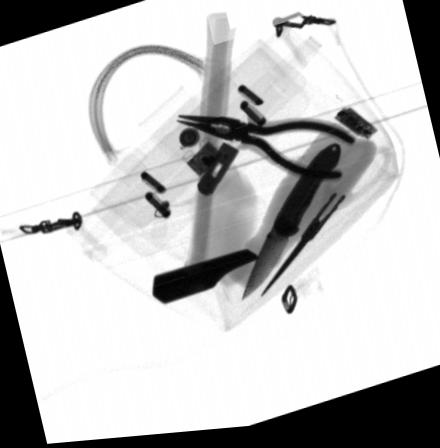Hammer: (150, 14, 261, 308)
Knife: (239, 146, 341, 306)
Pliers: (173, 116, 356, 188)
Scissors: (256, 143, 396, 301)
